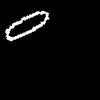chain: (6, 11, 48, 40)
